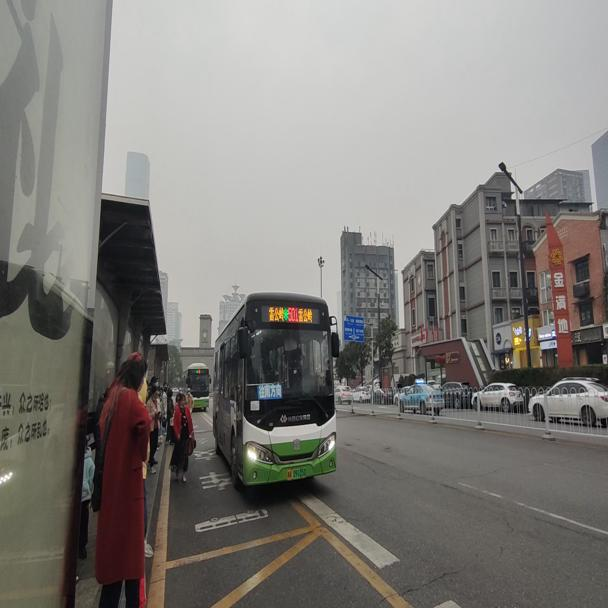bus: (211, 279, 343, 488), (183, 360, 209, 409)
screen: (286, 306, 299, 322)
